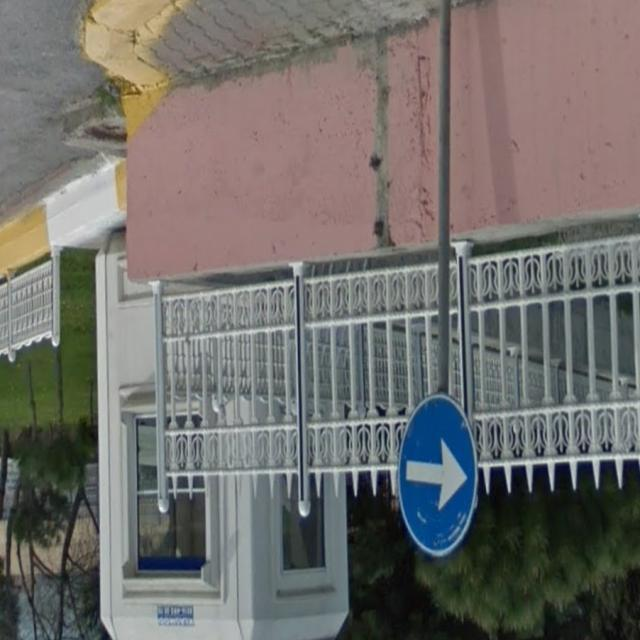Turn Right: (399, 391, 484, 567)
